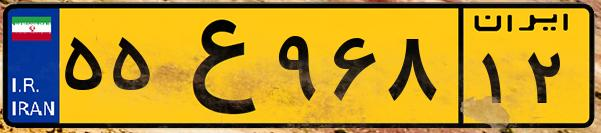1: (475, 38, 525, 113)
2: (525, 38, 570, 115)
5: (57, 26, 110, 100), (110, 28, 158, 98)
6: (330, 28, 385, 110)
8: (385, 28, 445, 110)
9: (270, 28, 330, 110)
ع: (158, 12, 270, 120)
